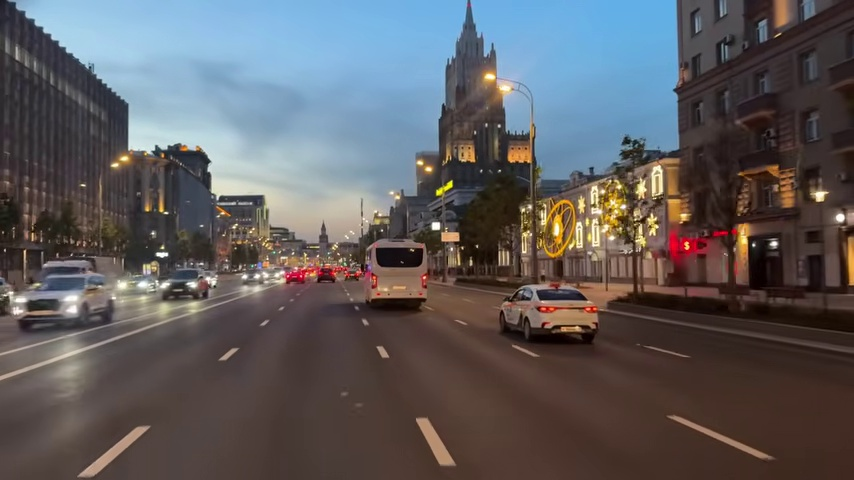acesa: (110, 154, 131, 172), (480, 69, 496, 87), (496, 81, 514, 97)
